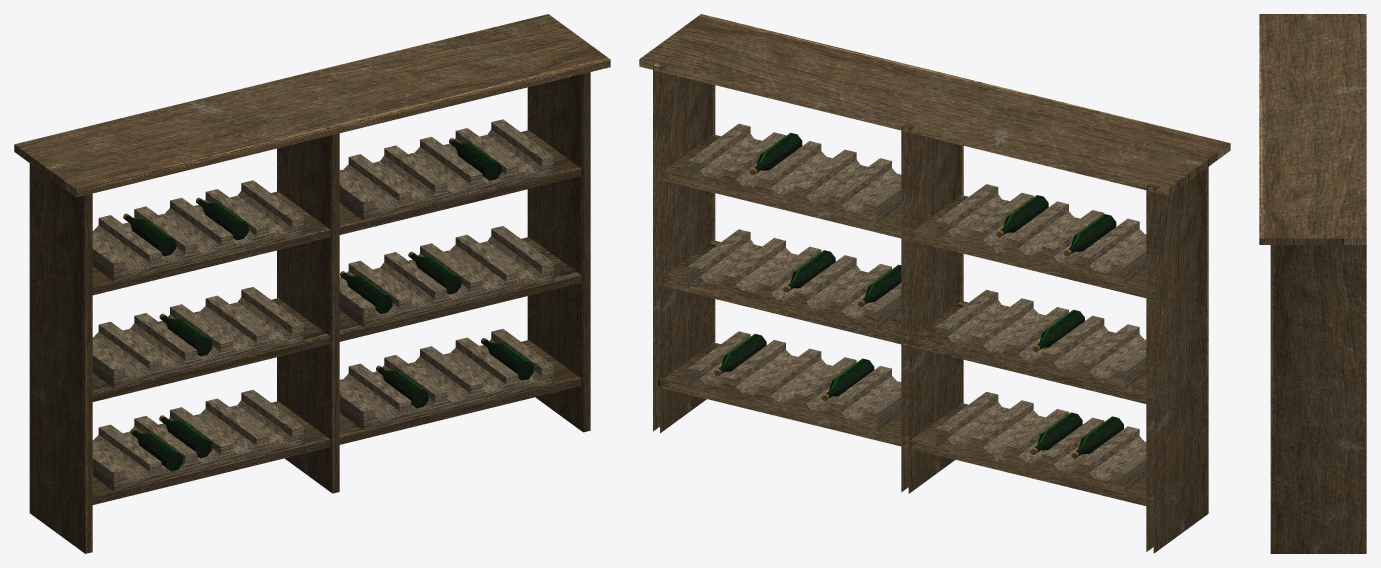
The model's file is mm9_deco_winerack.glb.
3 renders of one model, left to right at view 1: azimuth 30°, elevation 25°; view 2: azimuth 150°, elevation 25°; view 3: azimuth 270°, elevation 25°, orthographic. The views are drawn at different scales.
Parts seen in each view (by area): view 1: Winerack; view 2: Winerack; view 3: Winerack.
Part boxes in pixels (x1,y1,x2,y2): Winerack: (14, 14, 610, 553); Winerack: (639, 14, 1230, 553); Winerack: (1259, 14, 1366, 553).
Size of the model in its own units: 4.17 by 2.78 by 0.8433.
2 materials, 2 textured.
